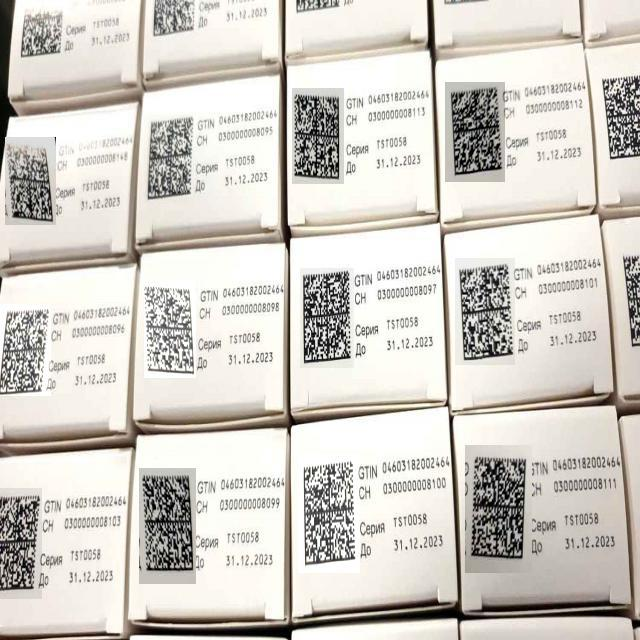Data-Matrix: (465, 445, 532, 573), (298, 454, 360, 573), (139, 468, 196, 584), (455, 258, 515, 365), (445, 82, 505, 182), (300, 268, 354, 368), (144, 280, 196, 378), (292, 88, 344, 184), (0, 304, 51, 396), (0, 488, 42, 599), (5, 137, 56, 225), (144, 115, 194, 203)
